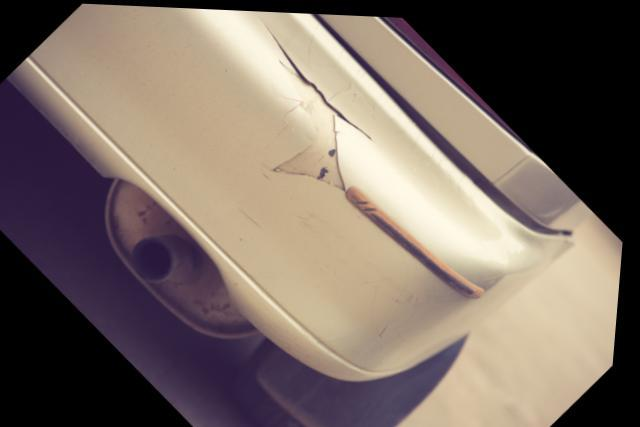crack: (260, 14, 375, 189)
